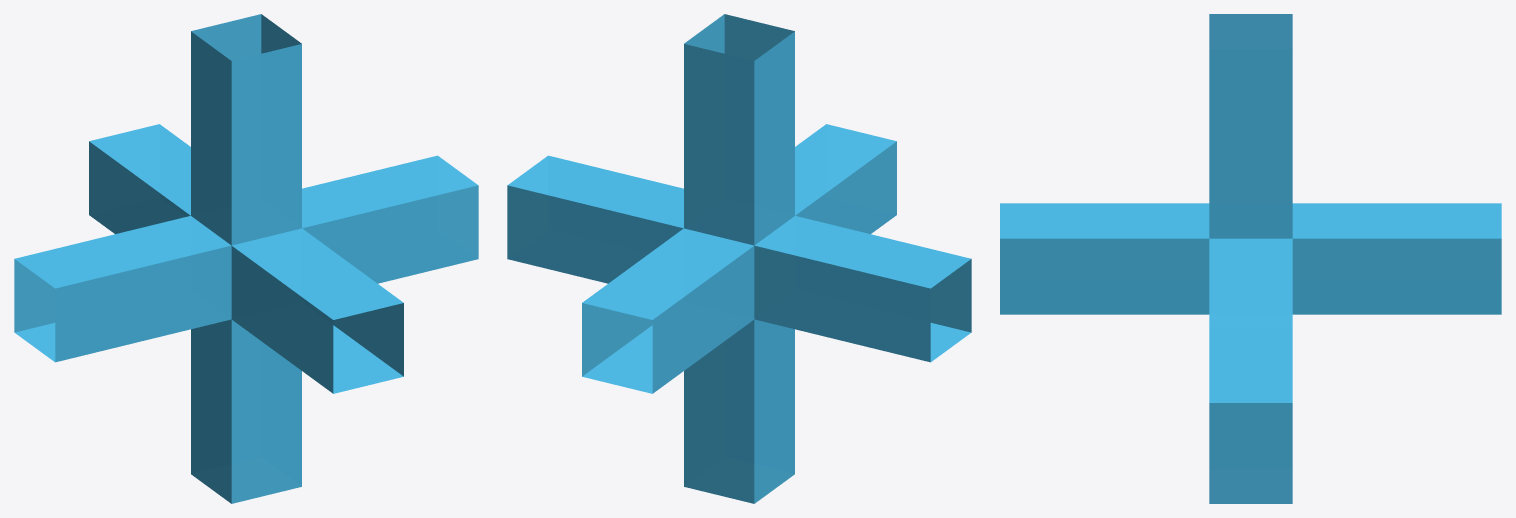
File: Tetrahemihexacron.obj
3 renders of one model, left to right at view 1: azimuth 30°, elevation 25°; view 2: azimuth 150°, elevation 25°; view 3: azimuth 270°, elevation 25°, orthographic. The views are drawn at different scales.
Bounding box in the file's own units: 6 × 6 × 6.
